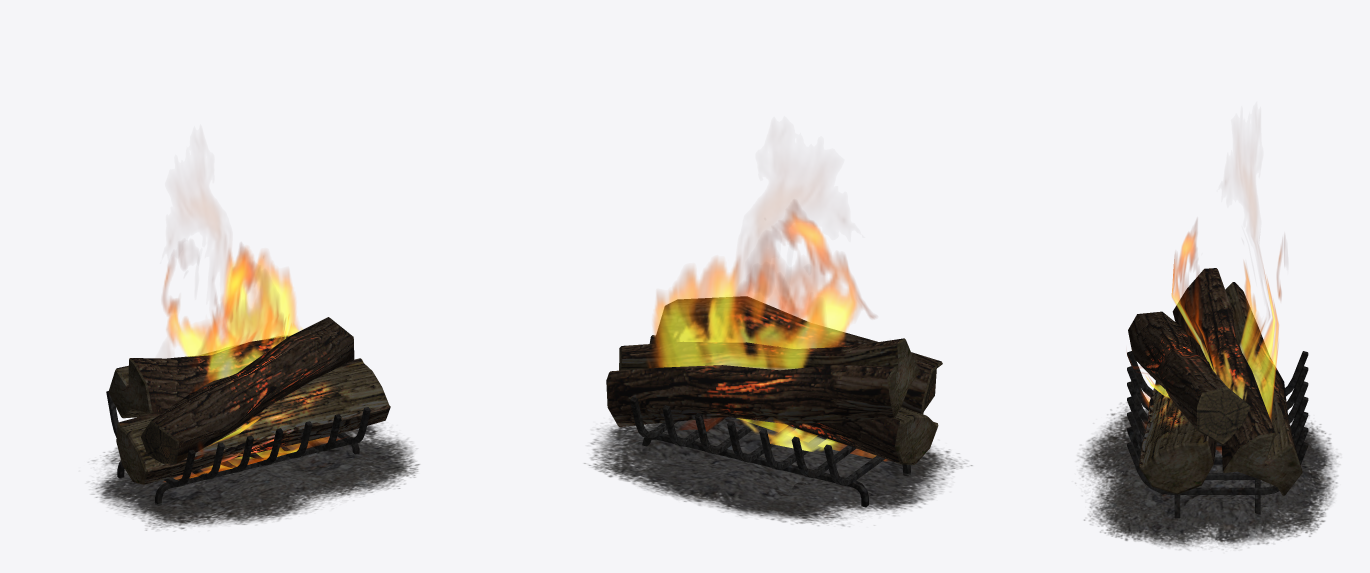
Rendered from animated_fire.glb.
3 views of the same model, side by side, from view 1: azimuth 30°, elevation 25°; view 2: azimuth 150°, elevation 25°; view 3: azimuth 270°, elevation 25° (orthographic). The views are drawn at different scales.
Parts seen in each view (by area): view 1: Logs, Ashes_Ashes_0, Feu01, Log Grate; view 2: Logs, Feu01, Ashes_Ashes_0, Log Grate; view 3: Logs, Ashes_Ashes_0, Feu01, Log Grate.
Part boxes in pixels (<box>): Logs: <box>108,317,390,484</box>; Ashes_Ashes_0: <box>91,423,419,531</box>; Feu01: <box>162,193,345,481</box>; Log Grate: <box>106,391,370,505</box>; Logs: <box>606,296,942,464</box>; Feu01: <box>648,185,888,461</box>; Ashes_Ashes_0: <box>584,417,972,525</box>; Log Grate: <box>630,397,910,507</box>; Logs: <box>1128,268,1302,495</box>; Ashes_Ashes_0: <box>1075,402,1338,549</box>; Feu01: <box>1128,170,1284,453</box>; Log Grate: <box>1127,351,1308,519</box>.
Bounding box in the file's own units: 0.8617 × 1.06 × 0.6188.
Materials: 4 (4 with a texture image).
